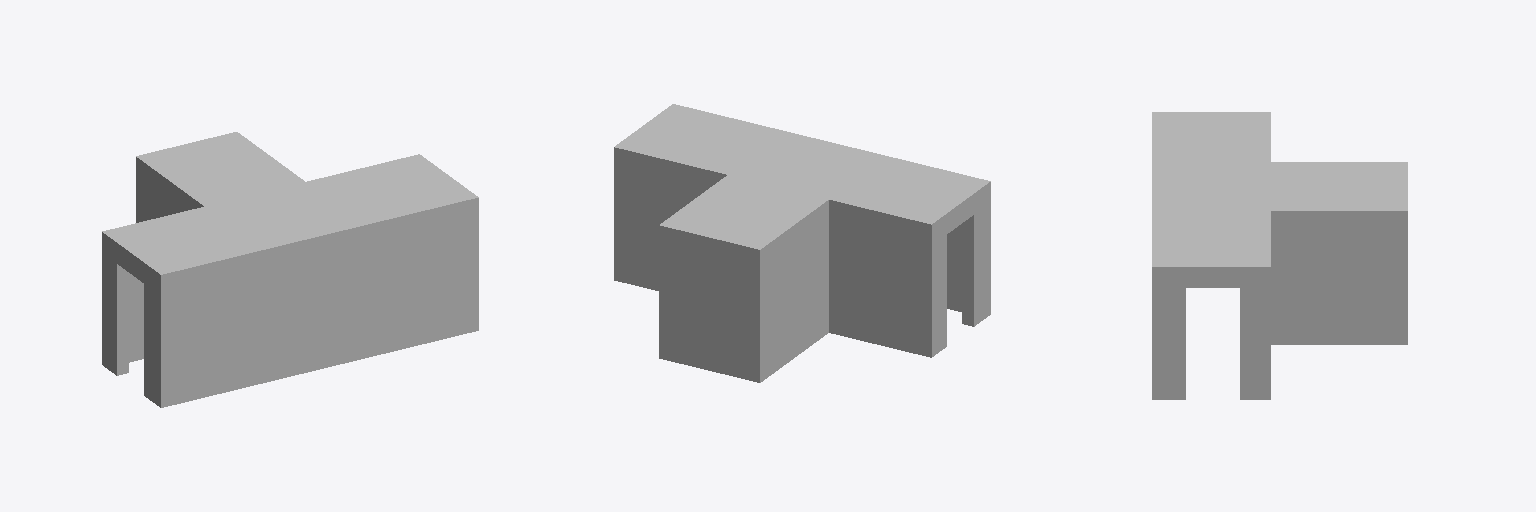
Rendered from shed.obj.
The picture shows the model from 3 angles: view 1: azimuth 30°, elevation 25°; view 2: azimuth 150°, elevation 25°; view 3: azimuth 270°, elevation 25°; orthographic projection.
Visible parts, largest first — view 1: Cube; view 2: Cube; view 3: Cube.
Part boxes in pixels (x1,y1,x2,y2): Cube: (102,132,478,407); Cube: (614,104,990,382); Cube: (1152,112,1407,399).
Size of the model in its own units: 6.19 by 2.48 by 4.32.